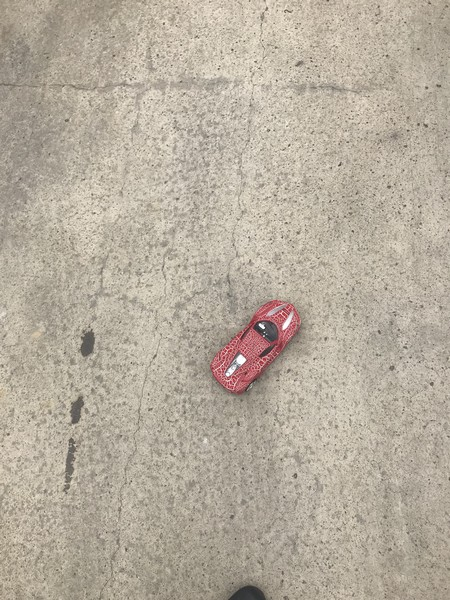RC: (207, 299, 305, 393)
